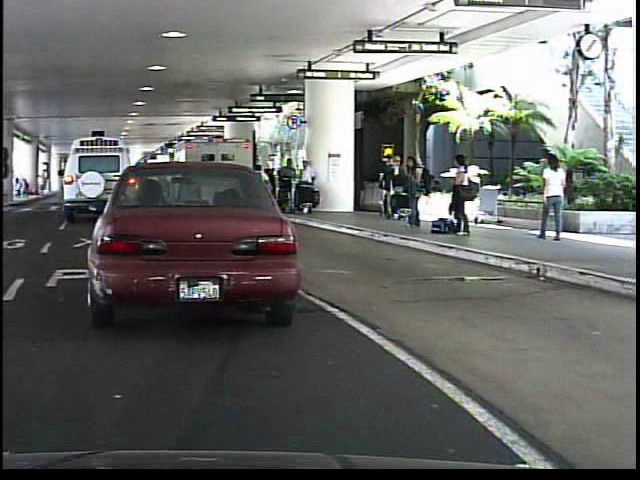person: (533, 154, 571, 243), (443, 151, 472, 238)
